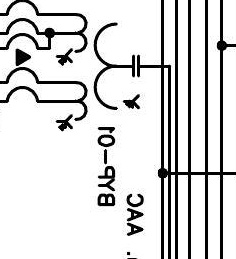115_cvt_3p: (55, 12, 140, 132)
